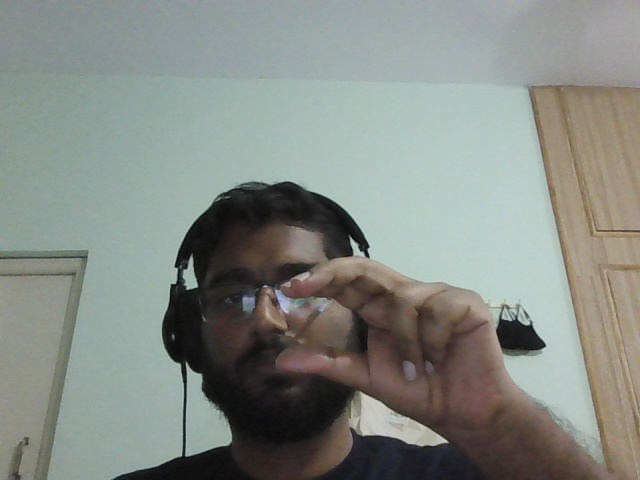No: (267, 240, 522, 432)
